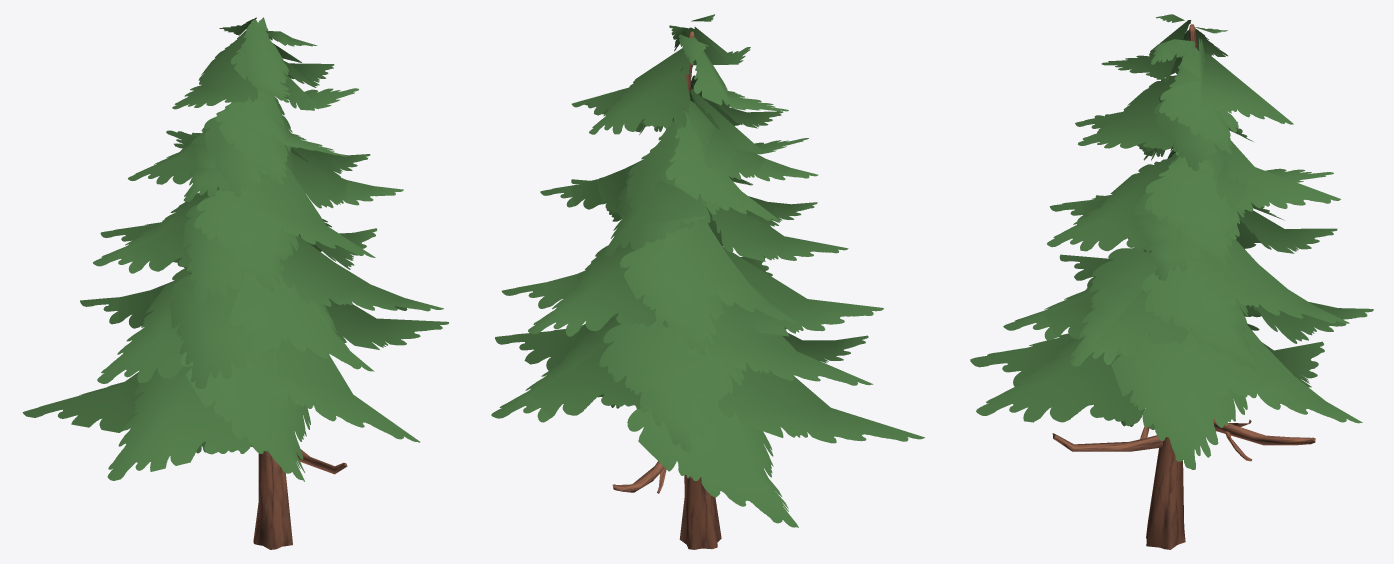
File: nkpine2.lod1.glb
The picture shows the model from 3 angles, left to right: view 1: azimuth 30°, elevation 25°; view 2: azimuth 150°, elevation 25°; view 3: azimuth 270°, elevation 25°; orthographic projection. The views are drawn at different scales.
Visible parts, largest first — view 1: Pine_2; view 2: Pine_2; view 3: Pine_2.
Boxes of the visible parts, x1,y1,x2,y2 form: Pine_2: (22,17,448,549); Pine_2: (491,14,924,549); Pine_2: (970,14,1373,549).
Size of the model in its own units: 5.73 by 7.2 by 5.22.
2 materials, 2 textured.
